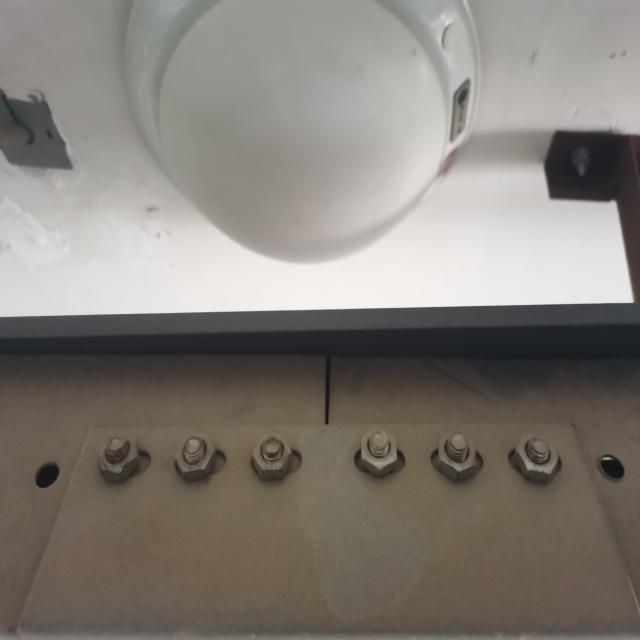bolt nut: (512, 428, 560, 485), (249, 428, 295, 484), (435, 428, 478, 485), (98, 432, 141, 486), (173, 432, 217, 484), (359, 426, 399, 480)
